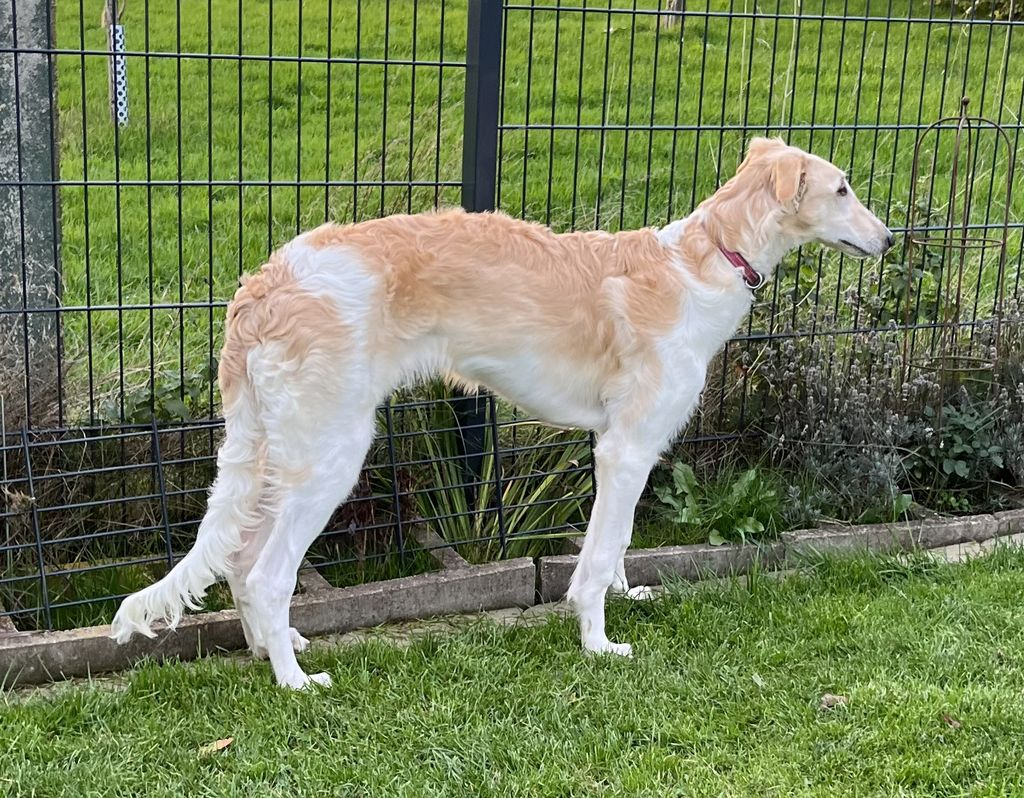borzoi: (104, 132, 935, 702)
